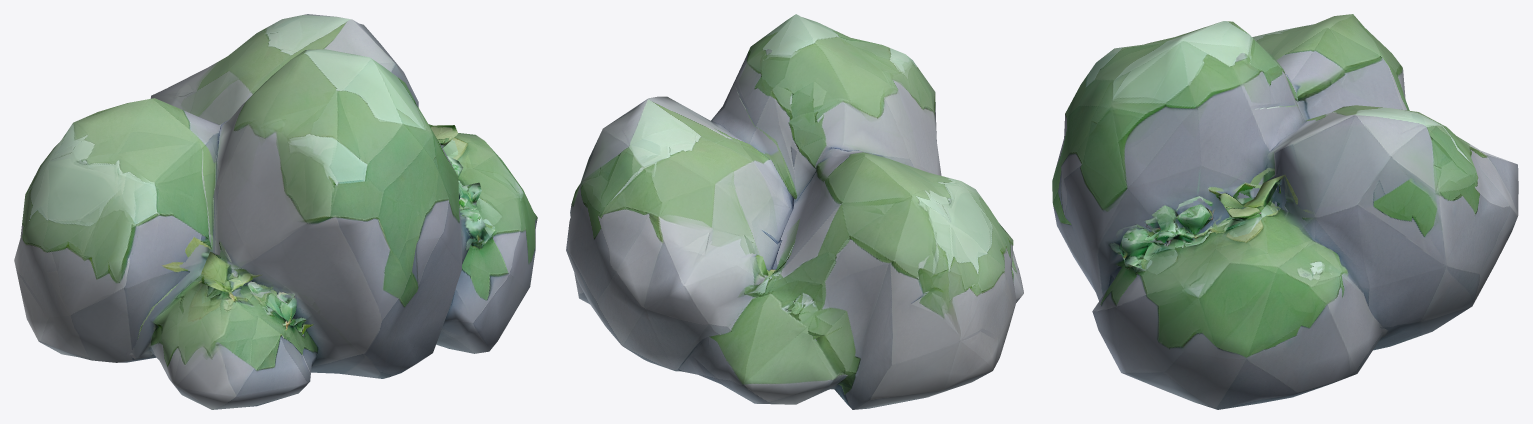
Rendered from JungleRock.fbx.
The picture shows the model from 3 angles, left to right: view 1: azimuth 30°, elevation 25°; view 2: azimuth 150°, elevation 25°; view 3: azimuth 270°, elevation 25°; orthographic projection. The views are drawn at different scales.
Visible parts, largest first — view 1: input; view 2: input; view 3: input.
Boxes of the visible parts, x1,y1,x2,y2 form: input: (14, 14, 537, 409); input: (566, 14, 1023, 409); input: (1052, 14, 1518, 409).
Size of the model in its own units: 99.81 by 62.75 by 86.66.
1 material, 1 textured.
